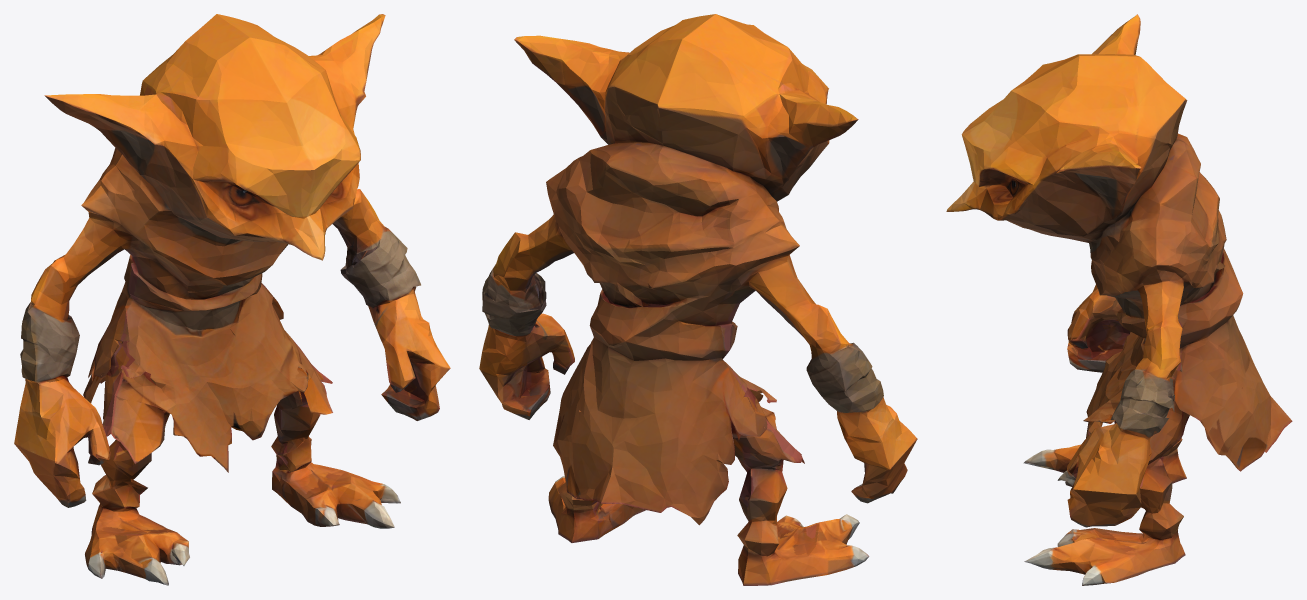
Rendered from goblin.glb.
3 renders of one model, left to right at view 1: azimuth 30°, elevation 25°; view 2: azimuth 150°, elevation 25°; view 3: azimuth 270°, elevation 25°, orthographic. The views are drawn at different scales.
Visible parts, largest first — view 1: temp; view 2: temp; view 3: temp.
Boxes of the visible parts, x1,y1,x2,y2 form: temp: [14, 14, 450, 585]; temp: [479, 14, 917, 585]; temp: [946, 14, 1292, 585].
Bounding box in the file's own units: 1.69 × 1.99 × 1.35.
Materials: 1 (1 with a texture image).
